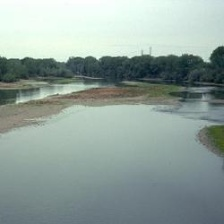neutral: (1, 42, 224, 166)
